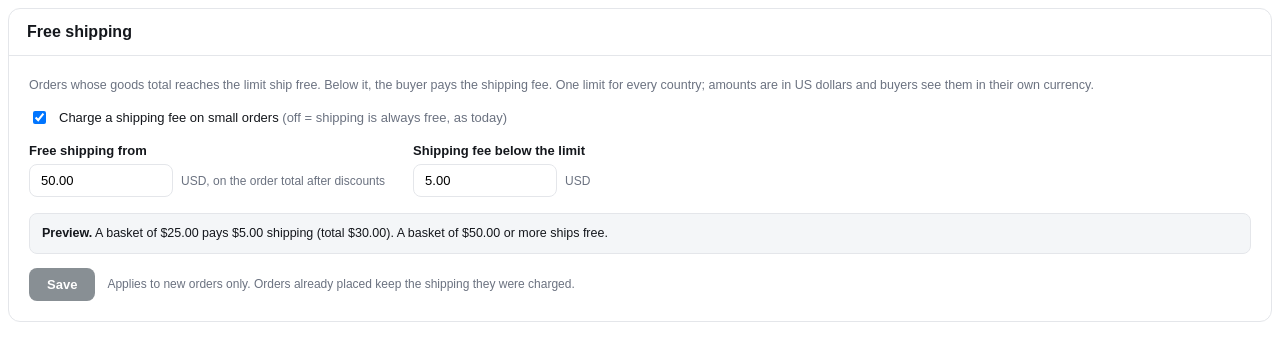
what it shows › changing ONLY the fee, or ONLY the switch, is also a change that can be saved
Expected: the field labelled "Free shipping from" is shown, [29,164,173,197]
Replace the text in the field labelled "Shipping fee below the limit" with "6" at (485, 181), box [413,164,557,197]
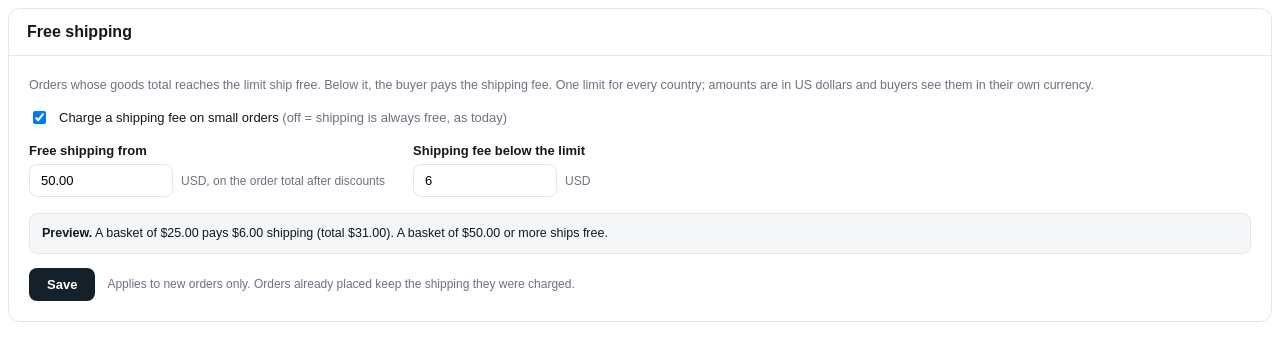
Result: the button "Save" is enabled at [29,268,95,301]
Replace the text in the field labelled "Shipping fee below the limit" with "5.00" at (485, 181), box [413,164,557,197]
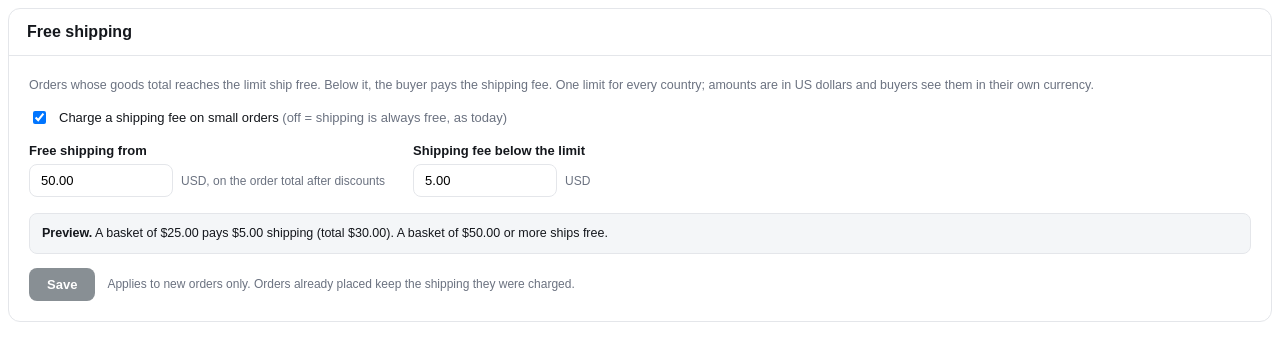
Result: the button "Save" is disabled at [29,268,95,301]
Click the switch at (40, 118), box [33,111,46,124]
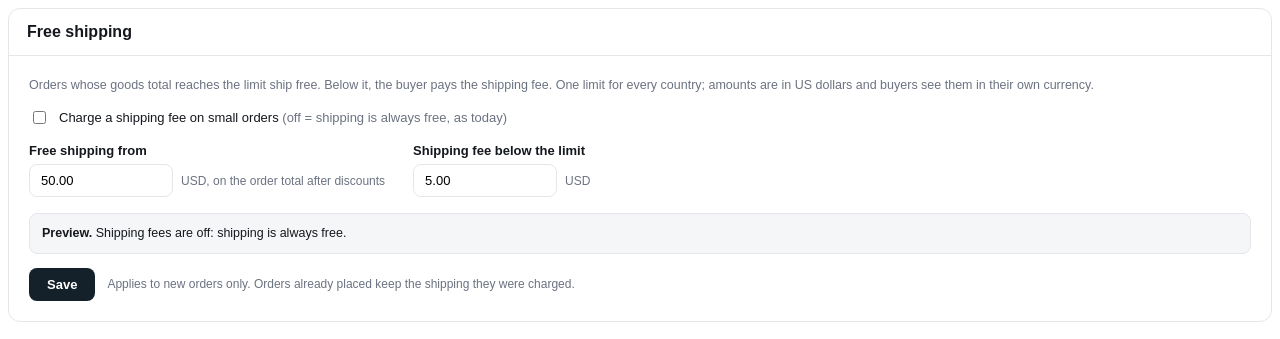
Result: the button "Save" is enabled at [29,268,95,301]
Click the switch at (40, 118), box [33,111,46,124]
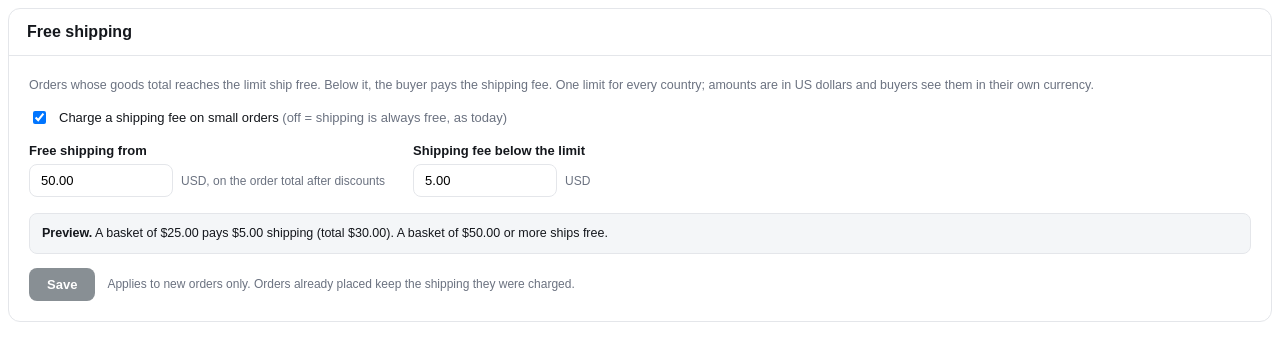
Result: the button "Save" is disabled at [29,268,95,301]
